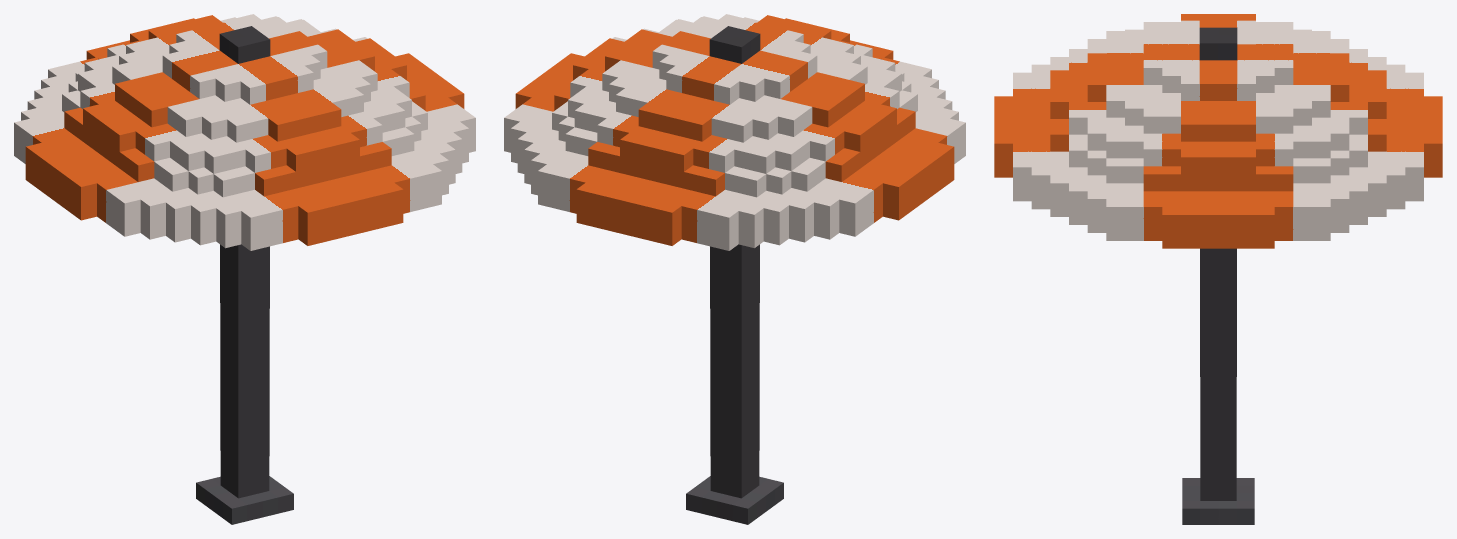
Rendered from umbrella.glb.
3 renders of one model, left to right at view 1: azimuth 30°, elevation 25°; view 2: azimuth 150°, elevation 25°; view 3: azimuth 270°, elevation 25°, orthographic.
Visible parts, largest first — view 1: canopy; view 2: canopy; view 3: canopy.
Part boxes in pixels (x1,y1,x2,y2): canopy: [14, 14, 475, 524]; canopy: [504, 14, 965, 524]; canopy: [994, 14, 1442, 524].
Bounding box in the file's own units: 2.4 × 2.8 × 2.4.
1 material, 1 textured.
